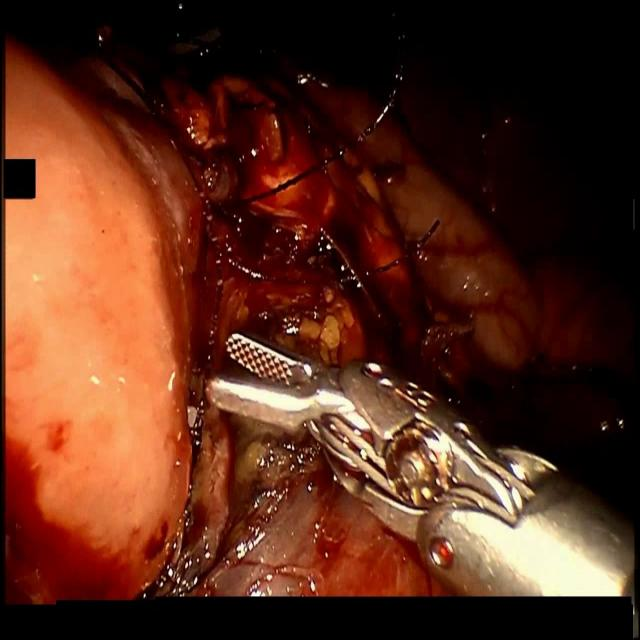surgical-area: (1, 11, 640, 609)
surgical-tool: (204, 324, 637, 601)
